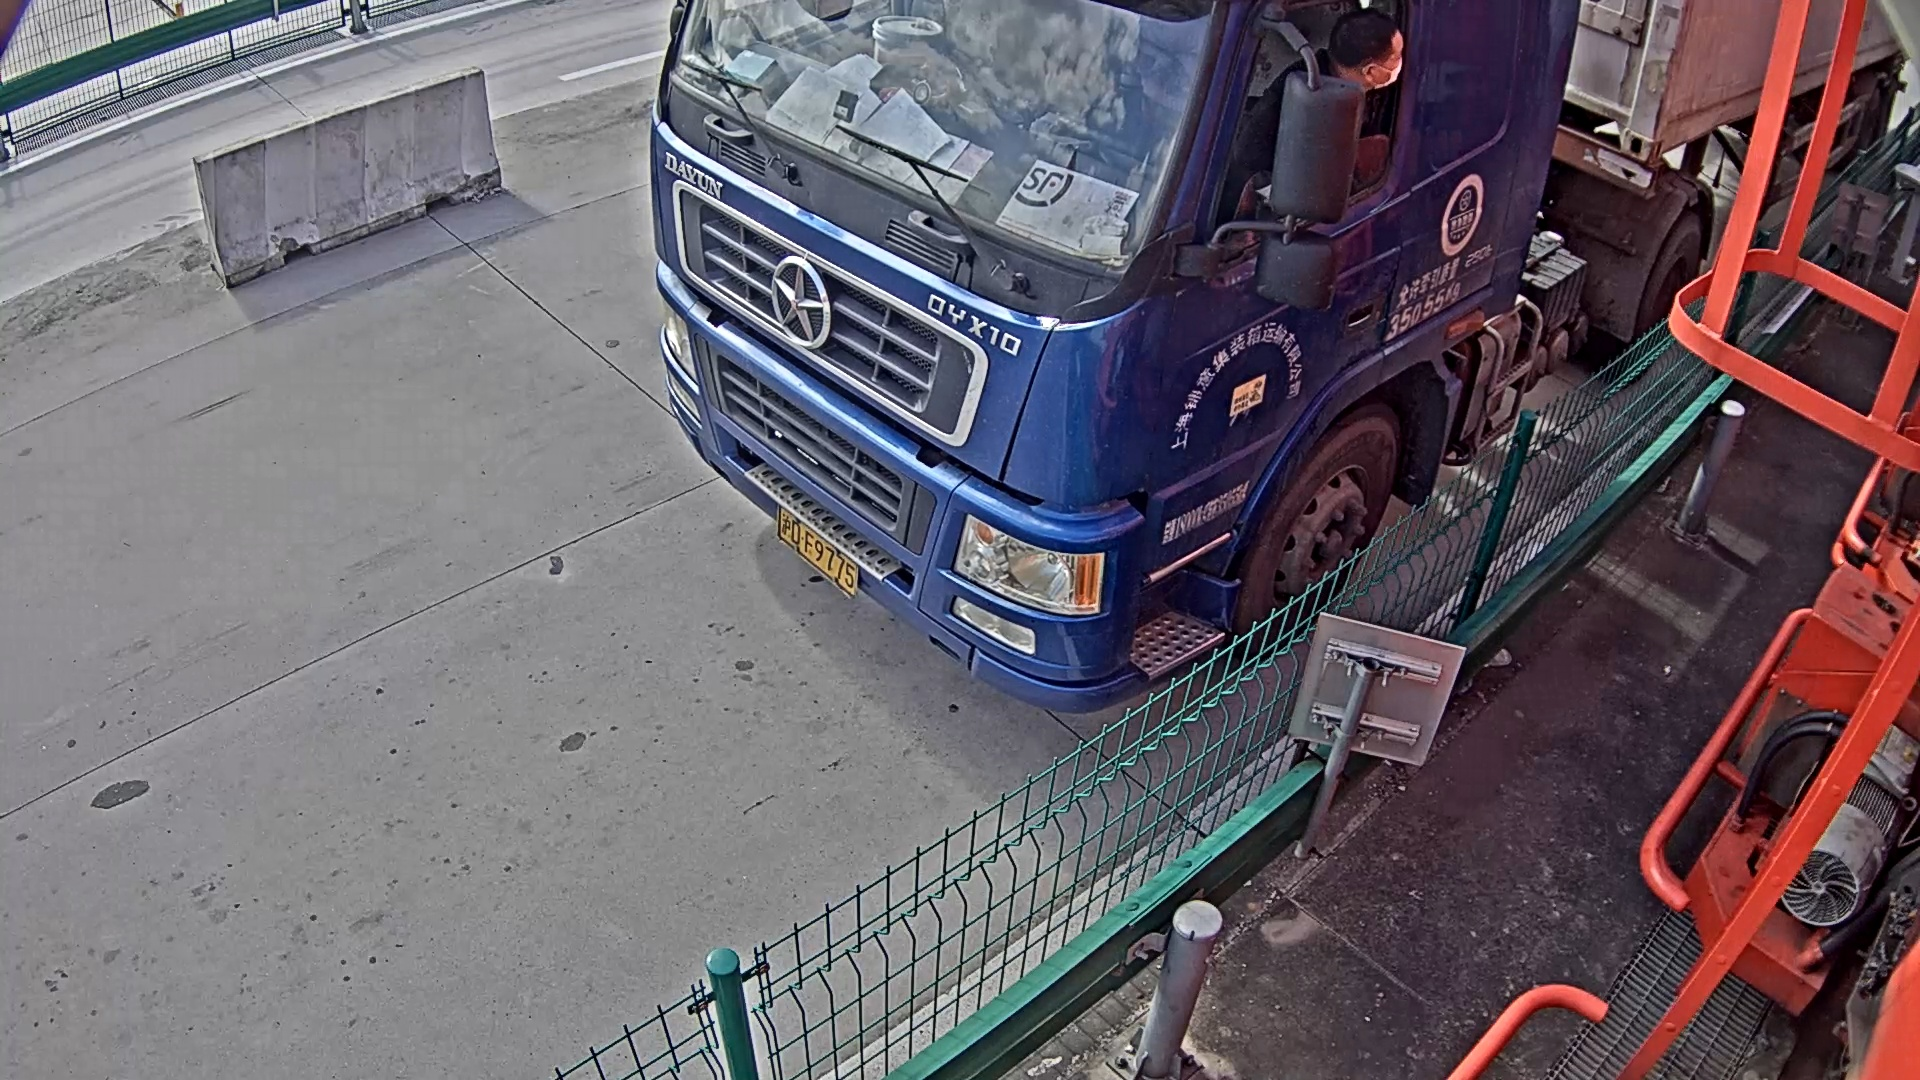head: (646, 1, 1570, 695)
plate: (776, 501, 858, 600)
